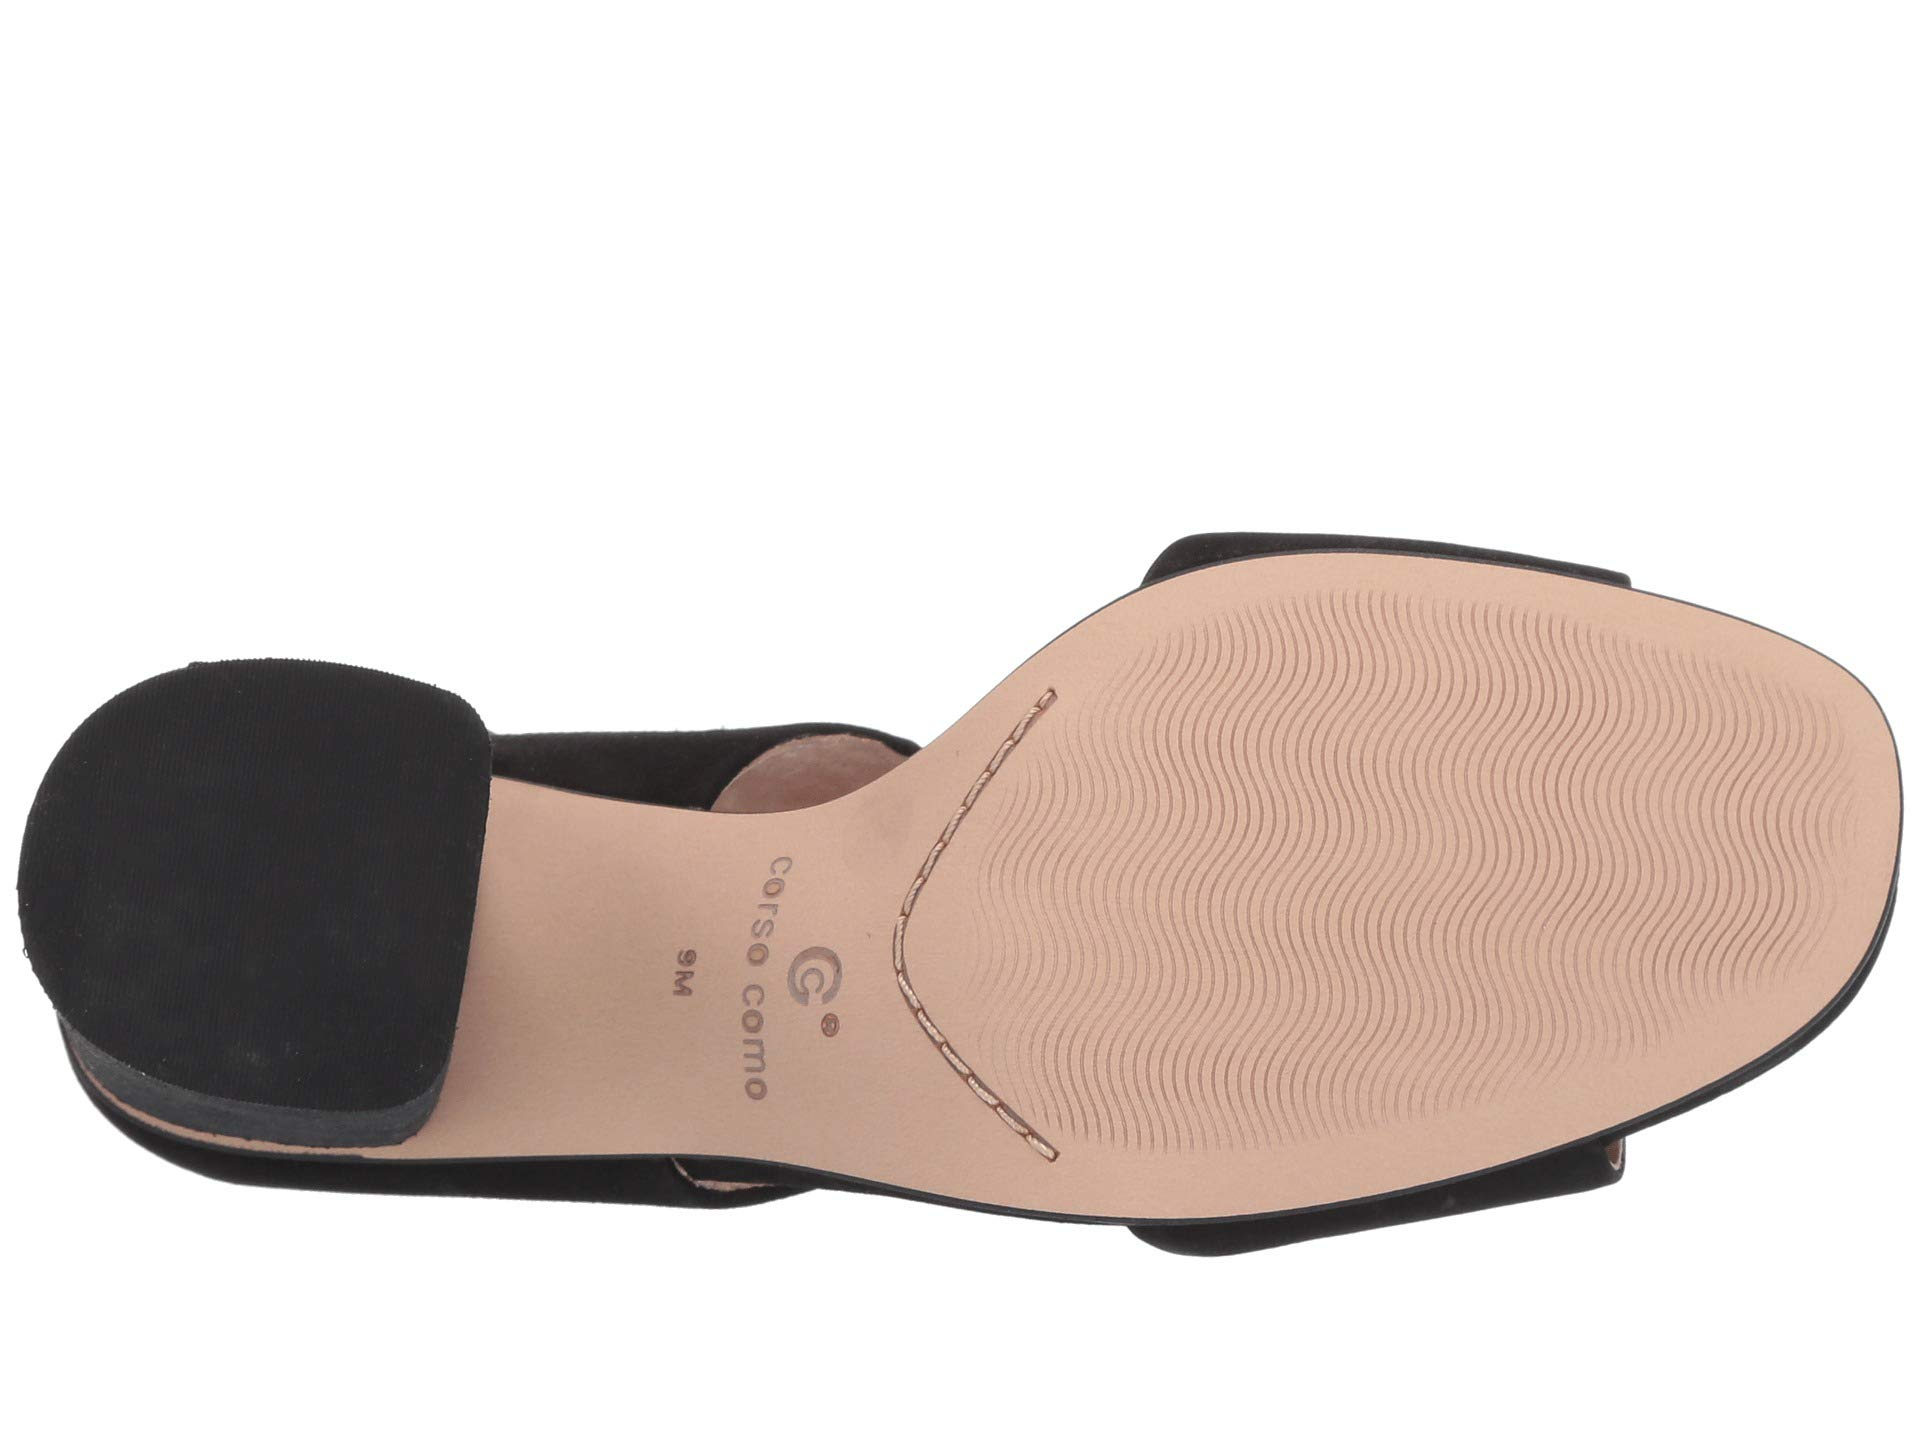chevron: (1197, 691, 1725, 1013)
